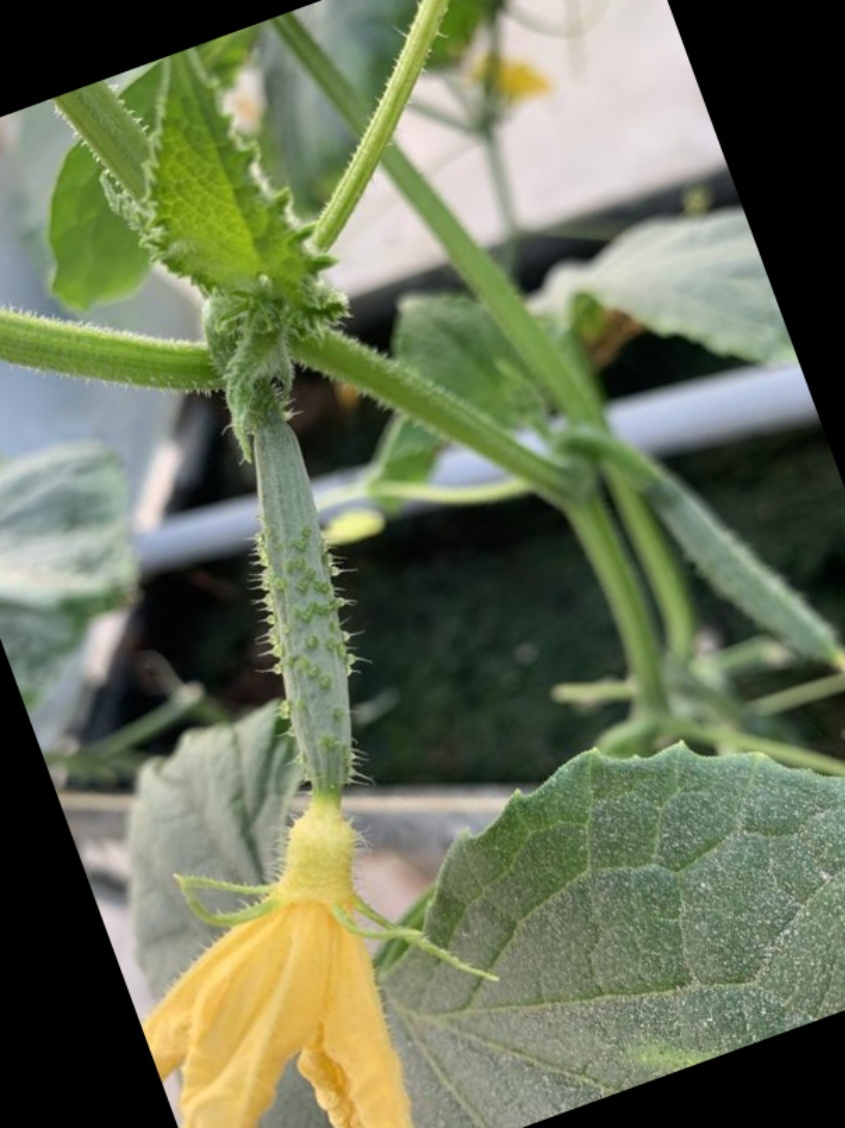bear: (220, 398, 463, 1112)
flowering: (225, 407, 413, 1100)
